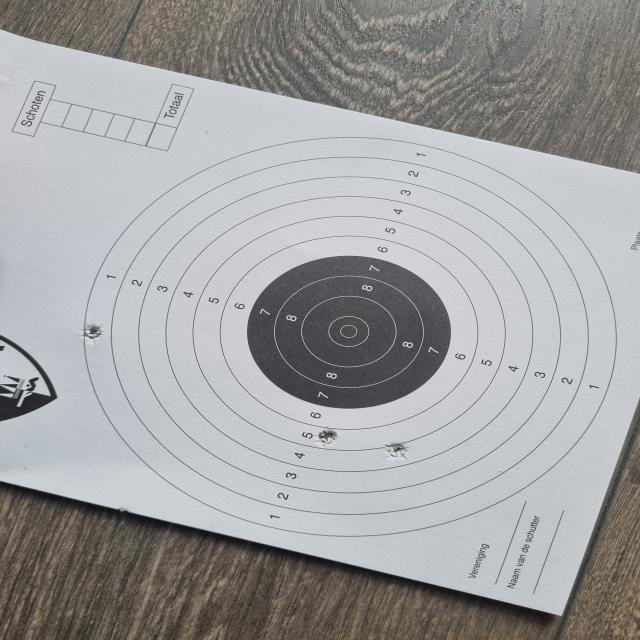1: (78, 324, 103, 339)
5: (383, 443, 408, 460)
6: (314, 427, 338, 444)
Target: (82, 137, 615, 537)
black_contour: (247, 255, 450, 409)
